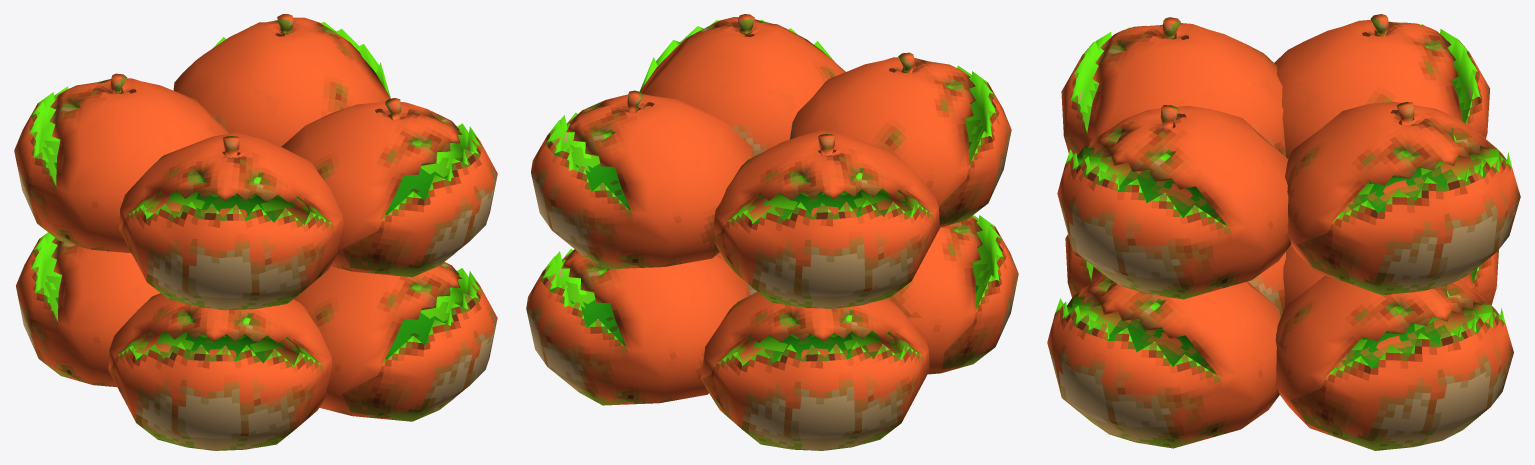
File: crate-darkeco-cluster-lod0.glb
The picture shows the model from 3 angles, left to right: view 1: azimuth 30°, elevation 25°; view 2: azimuth 150°, elevation 25°; view 3: azimuth 270°, elevation 25°; orthographic projection. The views are drawn at different scales.
Parts seen in each view (by area): view 1: PumpkinBomb, PumpkinBomb.001, PumpkinBomb.002, PumpkinBomb.003, PumpkinBomb.006, PumpkinBomb.004, PumpkinBomb.007; view 2: PumpkinBomb.006, PumpkinBomb.004, PumpkinBomb.007, PumpkinBomb.005, PumpkinBomb, PumpkinBomb.002, PumpkinBomb.001; view 3: PumpkinBomb.004, PumpkinBomb.002, PumpkinBomb.005, PumpkinBomb.003, PumpkinBomb, PumpkinBomb.006, PumpkinBomb.007, PumpkinBomb.001.
Boxes of the visible parts, x1,y1,x2,y2 form: PumpkinBomb: (119,132,343,310); PumpkinBomb.001: (108,293,332,450); PumpkinBomb.002: (281,98,497,277); PumpkinBomb.003: (293,262,497,421); PumpkinBomb.006: (14,73,229,253); PumpkinBomb.004: (173,14,390,146); PumpkinBomb.007: (16,232,160,386); PumpkinBomb.006: (714,130,939,308); PumpkinBomb.004: (531,90,754,269); PumpkinBomb.007: (700,292,929,450); PumpkinBomb.005: (526,249,750,405); PumpkinBomb: (789,52,1011,227); PumpkinBomb.002: (639,14,845,156); PumpkinBomb.001: (888,215,1018,374); PumpkinBomb.004: (1285,102,1520,295); PumpkinBomb.002: (1057,105,1291,299); PumpkinBomb.005: (1275,275,1513,450); PumpkinBomb.003: (1047,275,1280,448); PumpkinBomb: (1061,17,1285,156); PumpkinBomb.006: (1274,14,1489,158); PumpkinBomb.007: (1283,245,1498,306); PumpkinBomb.001: (1065,234,1285,316).
Size of the model in its own units: 5.71 by 4.5 by 5.88.
1 material, 1 textured.
